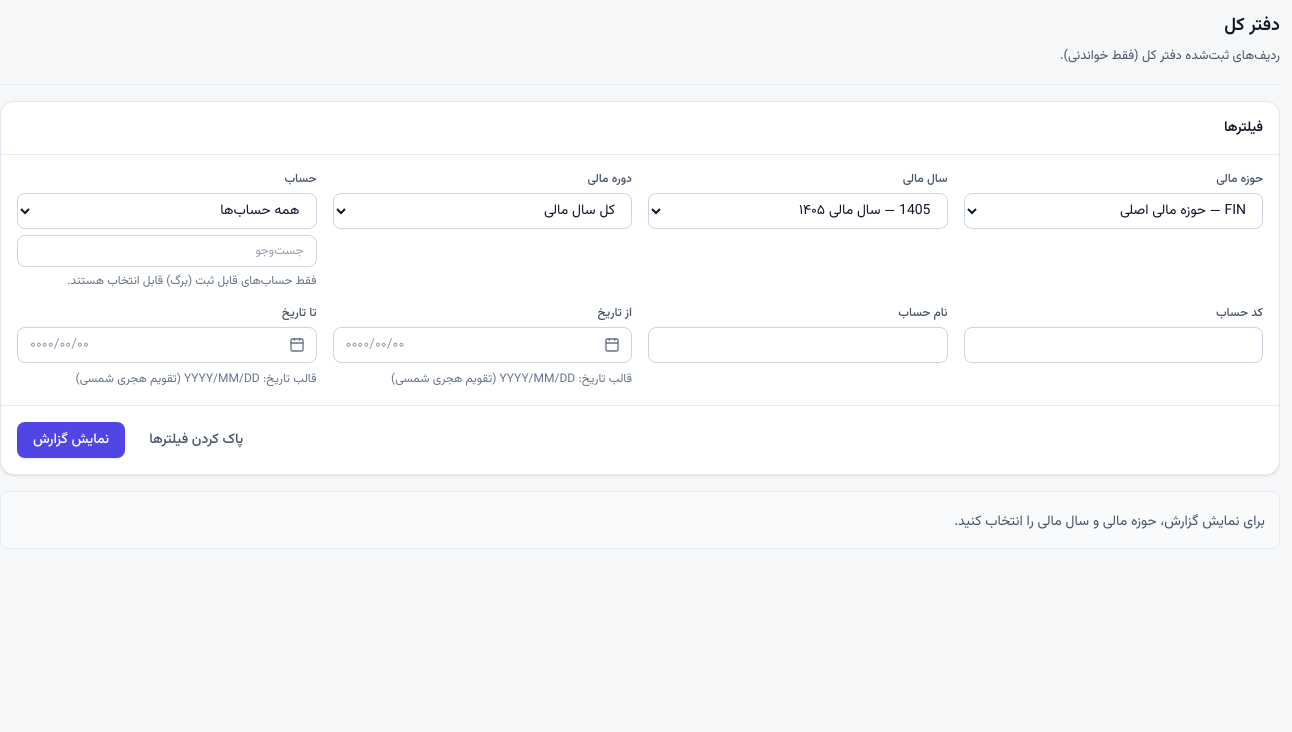
Test case: General Ledger page › shows the empty state when the server returns no rows
Check: the dropdown labelled "سال مالی" shows "1405 — سال مالی ۱۴۰۵", box [648,193,948,229]
Step 1. Click the button "نمایش گزارش" → (71, 440), box [17,422,125,458]
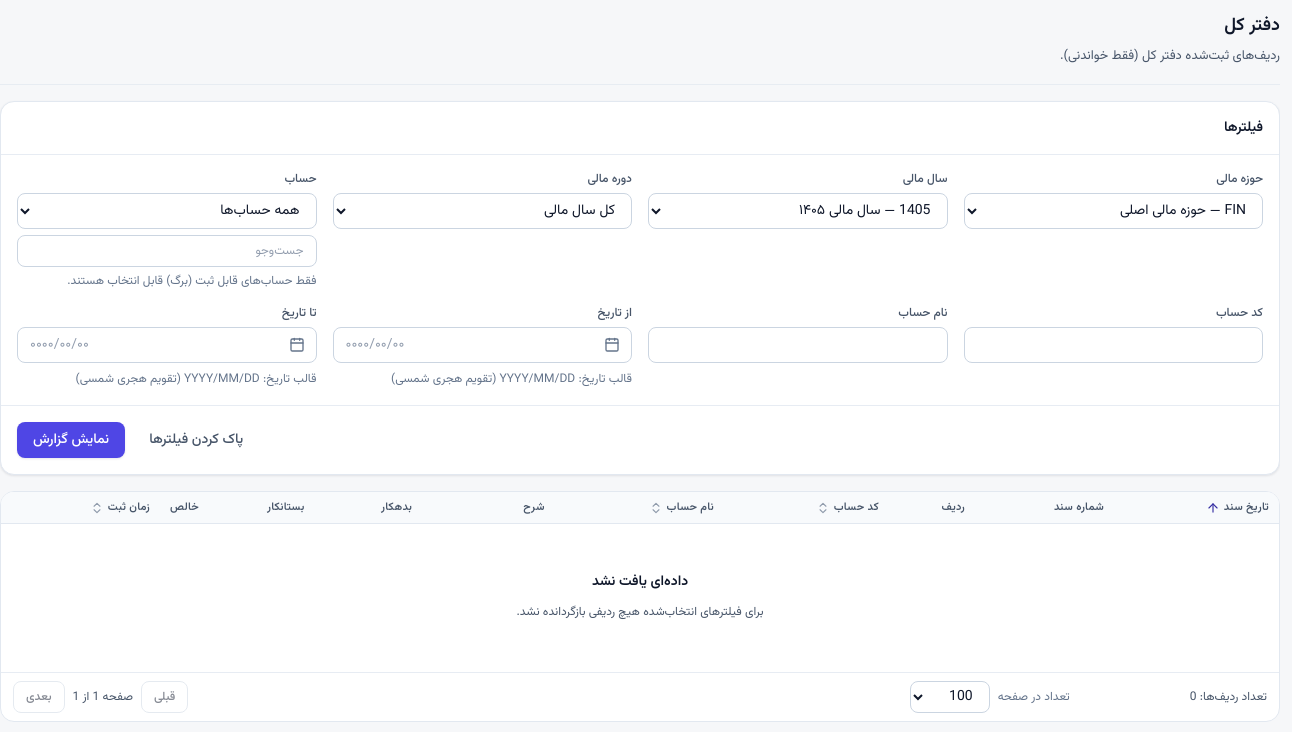
Check: the text "داده‌ای یافت نشد" is shown, box [592,572,688,592]
